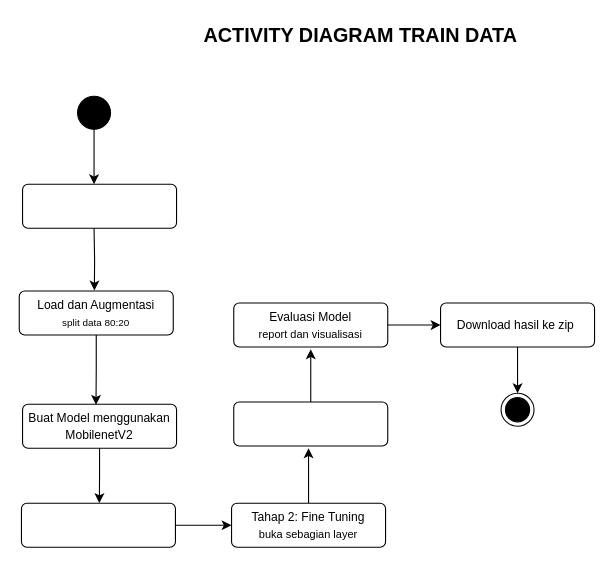
Image size: 614x567. Some labels were removed from this diagram. Each missing label, with the centre of its shape:
Siapkan Dataset: point (99, 205)
Simpan model ke google drive: point (310, 423)
Tahap 1: latih head backbone dibekukan: point (97, 524)
